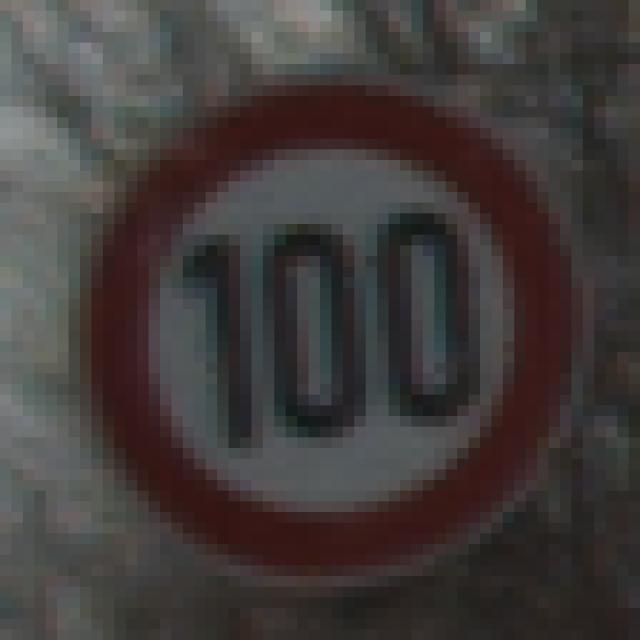speed limit 100: (66, 59, 598, 581)
